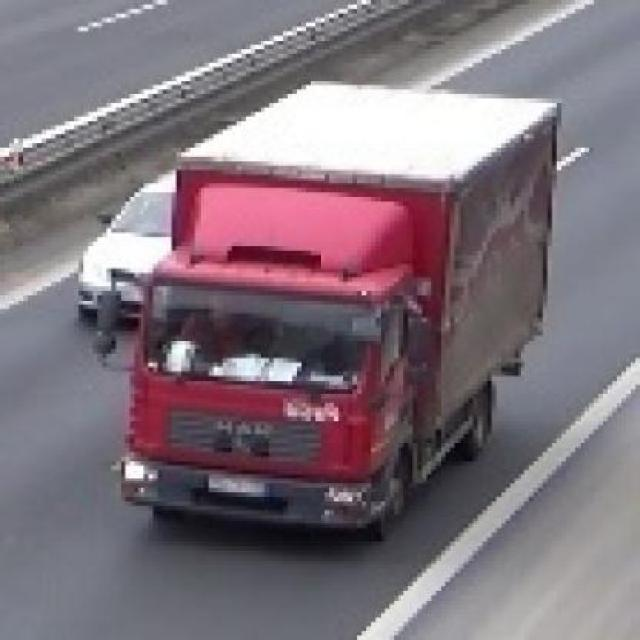truck: (93, 73, 558, 539)
